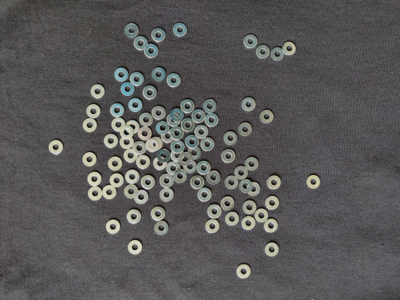circle: (88, 82, 107, 101), (235, 263, 252, 281), (153, 220, 171, 237), (80, 117, 98, 134), (263, 218, 280, 235), (124, 22, 141, 39), (139, 174, 156, 191), (150, 66, 168, 82), (166, 71, 182, 89), (127, 239, 143, 257), (158, 187, 176, 203), (282, 40, 299, 56), (267, 175, 284, 191), (204, 218, 221, 234), (151, 27, 168, 43), (142, 43, 159, 59), (88, 186, 104, 203), (126, 209, 143, 225), (123, 183, 139, 200), (181, 98, 197, 115), (103, 132, 119, 149), (306, 174, 322, 190), (238, 122, 254, 138), (238, 179, 254, 195), (82, 152, 98, 168), (106, 218, 122, 234), (85, 103, 101, 119), (221, 149, 238, 164), (198, 187, 213, 204), (88, 170, 103, 187), (110, 102, 125, 119), (243, 33, 259, 48), (242, 96, 257, 112), (265, 196, 281, 211), (223, 131, 239, 146), (245, 156, 260, 172), (224, 175, 239, 191), (247, 181, 262, 197), (241, 216, 257, 231), (207, 204, 223, 219), (172, 22, 188, 37), (197, 160, 212, 176), (108, 156, 123, 172), (125, 170, 141, 185), (194, 125, 210, 140), (128, 97, 143, 113), (138, 127, 153, 143), (260, 108, 274, 125), (221, 195, 235, 212), (225, 212, 240, 227), (151, 206, 166, 221), (134, 190, 149, 205), (157, 149, 172, 164), (181, 118, 196, 133), (130, 72, 145, 87), (136, 155, 151, 170), (256, 44, 270, 60), (265, 243, 281, 257), (233, 166, 249, 180), (191, 175, 205, 191), (159, 174, 175, 188), (192, 108, 206, 124), (169, 108, 185, 122), (113, 68, 129, 82), (133, 140, 147, 156), (123, 149, 139, 163), (207, 170, 221, 185), (50, 140, 64, 155), (103, 186, 117, 201), (167, 163, 182, 177), (200, 138, 215, 152), (153, 157, 168, 171), (203, 100, 218, 114), (166, 113, 181, 127), (156, 120, 170, 135), (152, 105, 166, 120), (143, 86, 158, 100), (139, 113, 154, 127), (146, 138, 160, 153), (120, 125, 134, 140), (111, 118, 126, 132), (120, 136, 135, 150), (162, 128, 175, 144), (120, 83, 136, 96), (271, 47, 285, 61), (255, 209, 269, 223), (243, 201, 257, 215), (134, 36, 148, 50), (110, 174, 124, 188), (183, 160, 197, 174), (171, 140, 185, 154), (185, 135, 199, 149), (150, 137, 164, 151), (126, 120, 140, 134), (174, 169, 187, 184), (171, 125, 184, 140), (179, 153, 193, 166), (187, 147, 201, 160), (172, 150, 186, 163), (205, 114, 220, 126)
